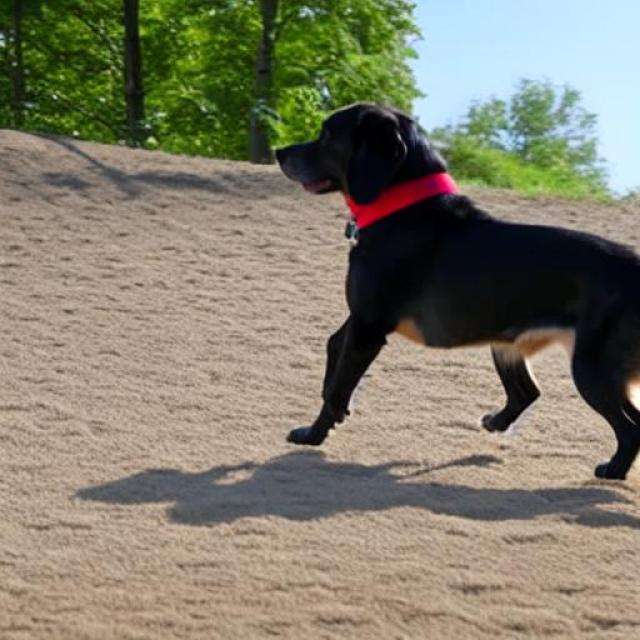Dog: (275, 102, 640, 482)
